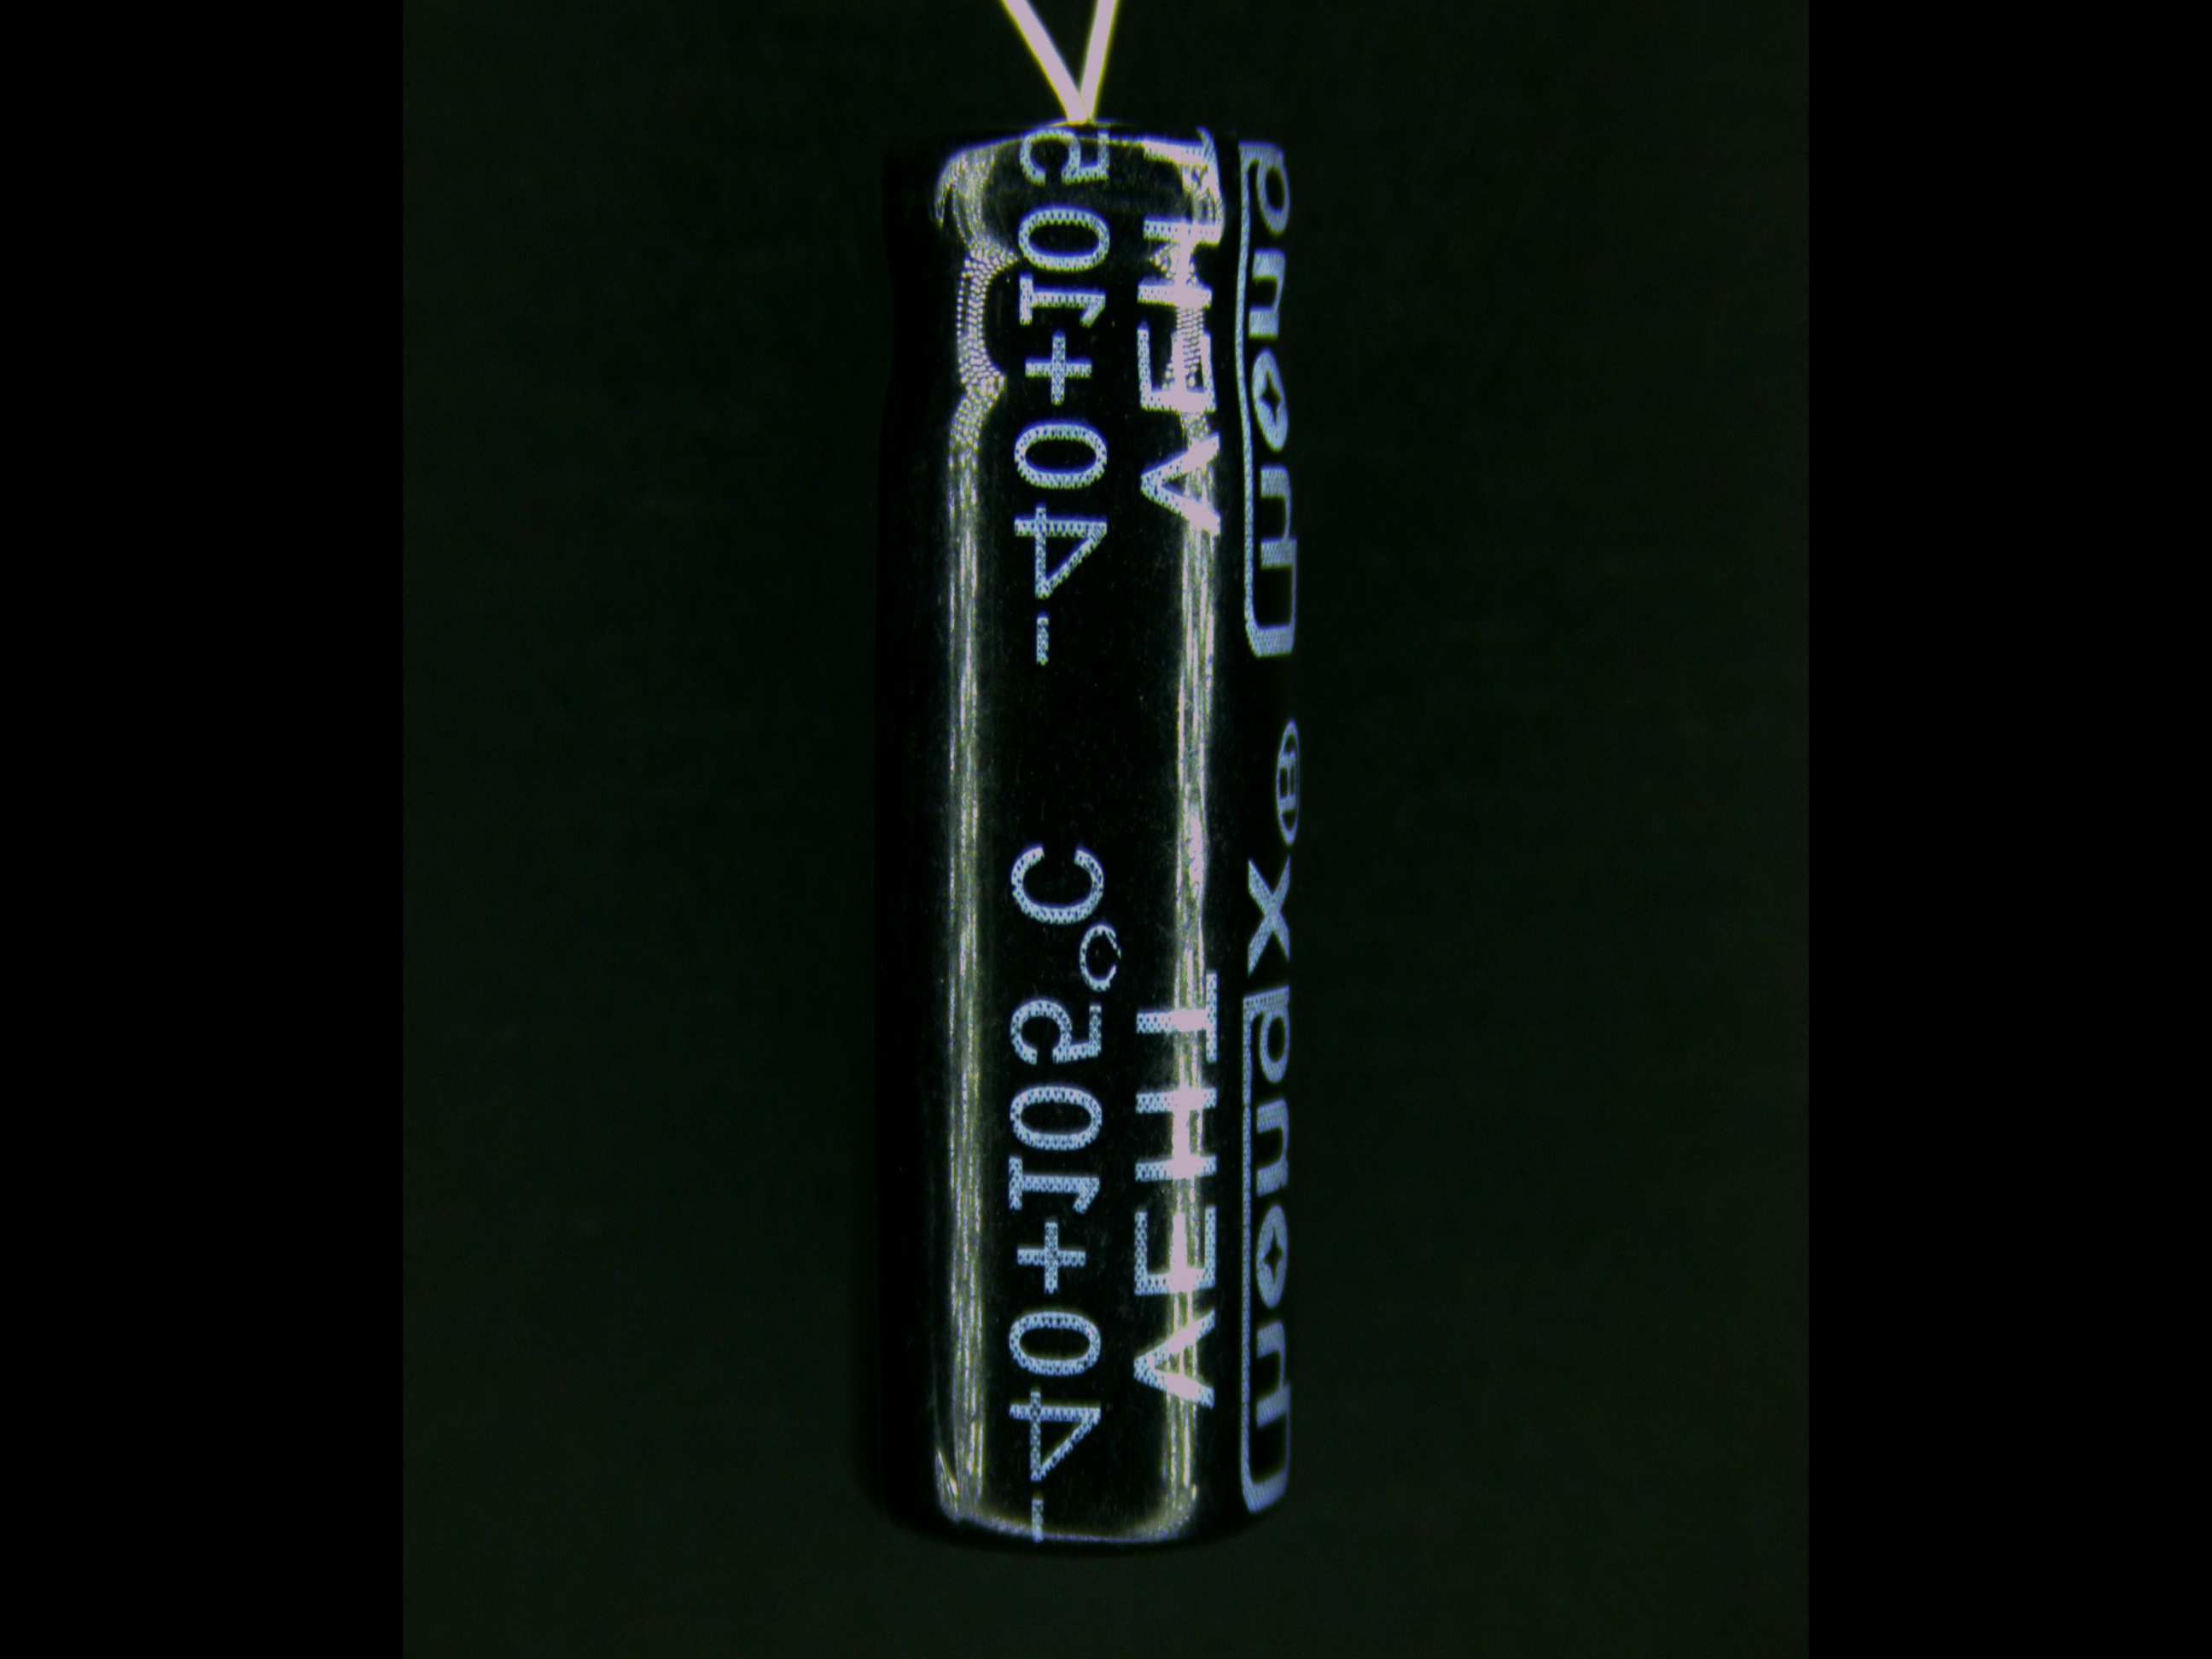c3: (855, 44, 1313, 1560)
